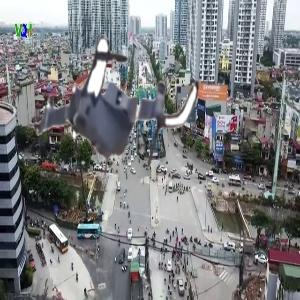drone: (29, 18, 201, 190)
